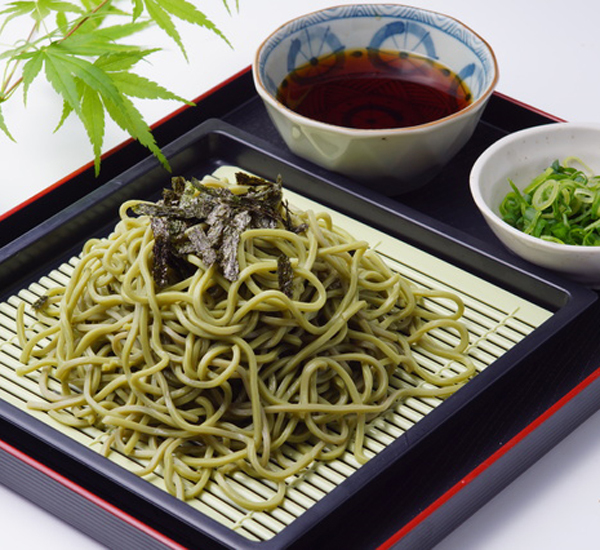Soba: (64, 167, 473, 499)
